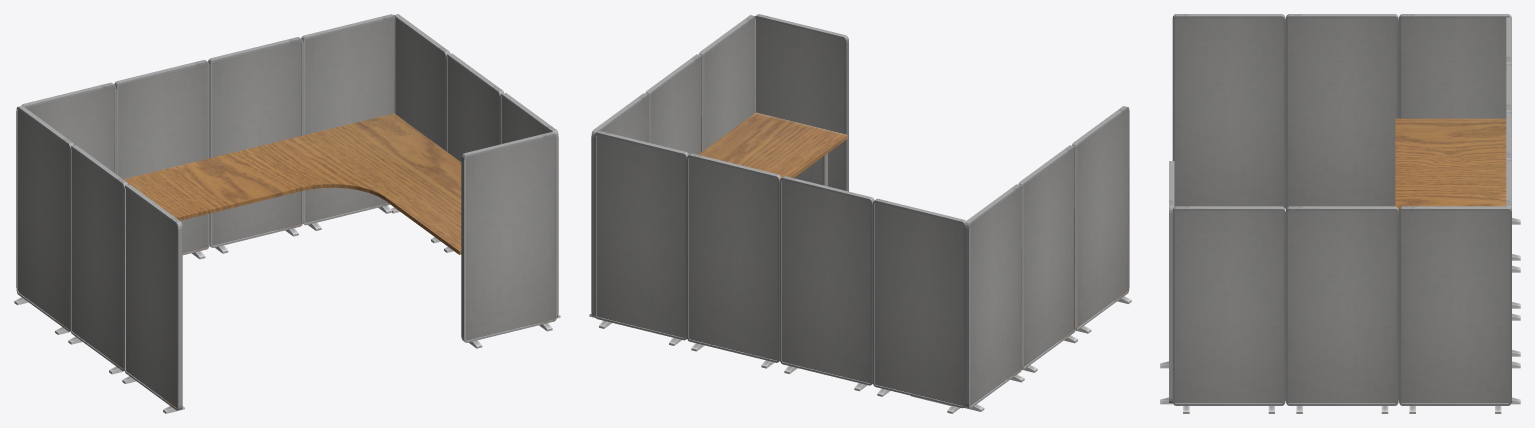
Rendered from office cubicle.fbx.
3 views of the same model, side by side, from view 1: azimuth 30°, elevation 25°; view 2: azimuth 150°, elevation 25°; view 3: azimuth 270°, elevation 25° (orthographic). The views are drawn at different scales.
Parts seen in each view (by area): view 1: cubicle desk; view 2: cubicle desk; view 3: cubicle desk.
Part boxes in pixels (x1=…): cubicle desk: x1=14, y1=14, x2=560, y2=413; cubicle desk: x1=589, y1=14, x2=1131, y2=413; cubicle desk: x1=1160, y1=14, x2=1520, y2=413.
Bounding box in the file's own units: 1118 × 520 × 842.
